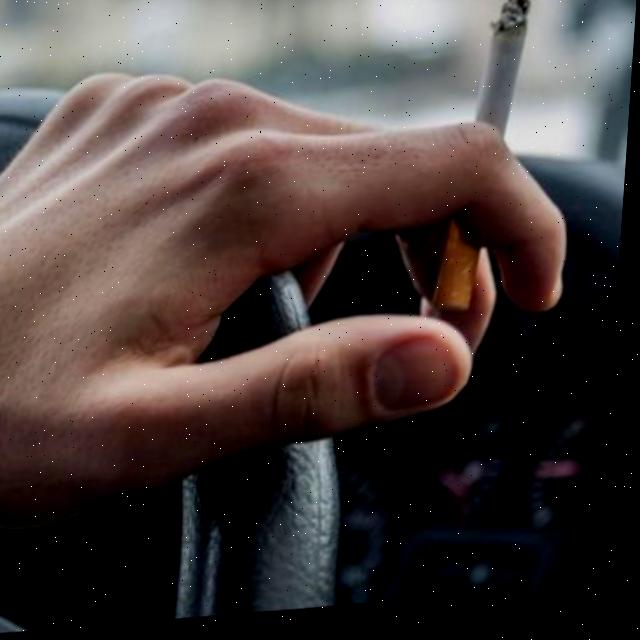cigarette: (434, 0, 534, 324)
